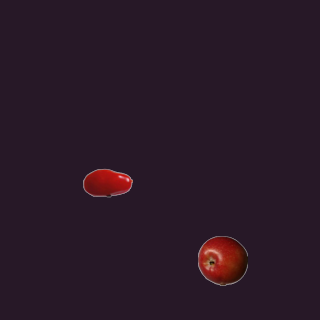Apple Braeburn: (197, 235, 247, 285)
Tomato 2: (82, 157, 132, 207)
